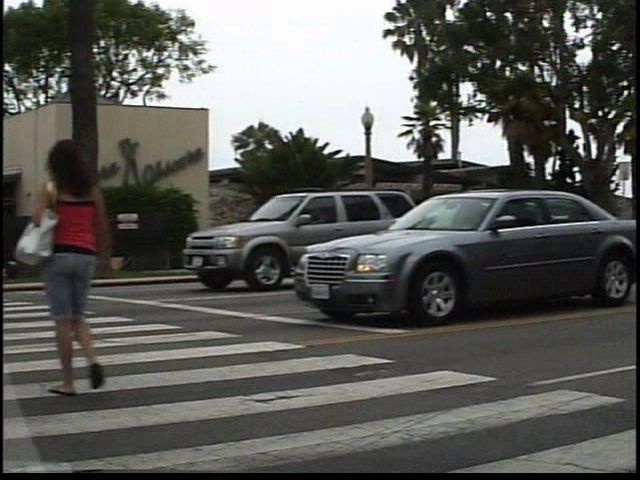person: (50, 138, 141, 406)
